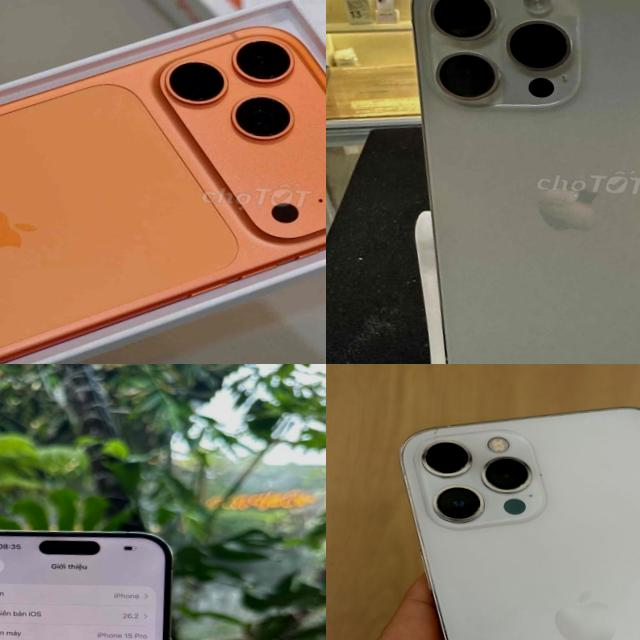gen_12_13: (366, 390, 640, 640)
gen_15: (391, 0, 640, 364), (0, 524, 203, 640)
gen_17: (0, 0, 326, 361), (0, 26, 326, 363), (0, 0, 163, 223)
